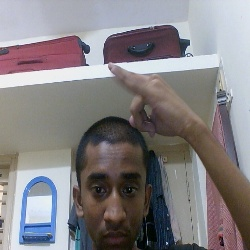hand: (93, 52, 211, 150)
